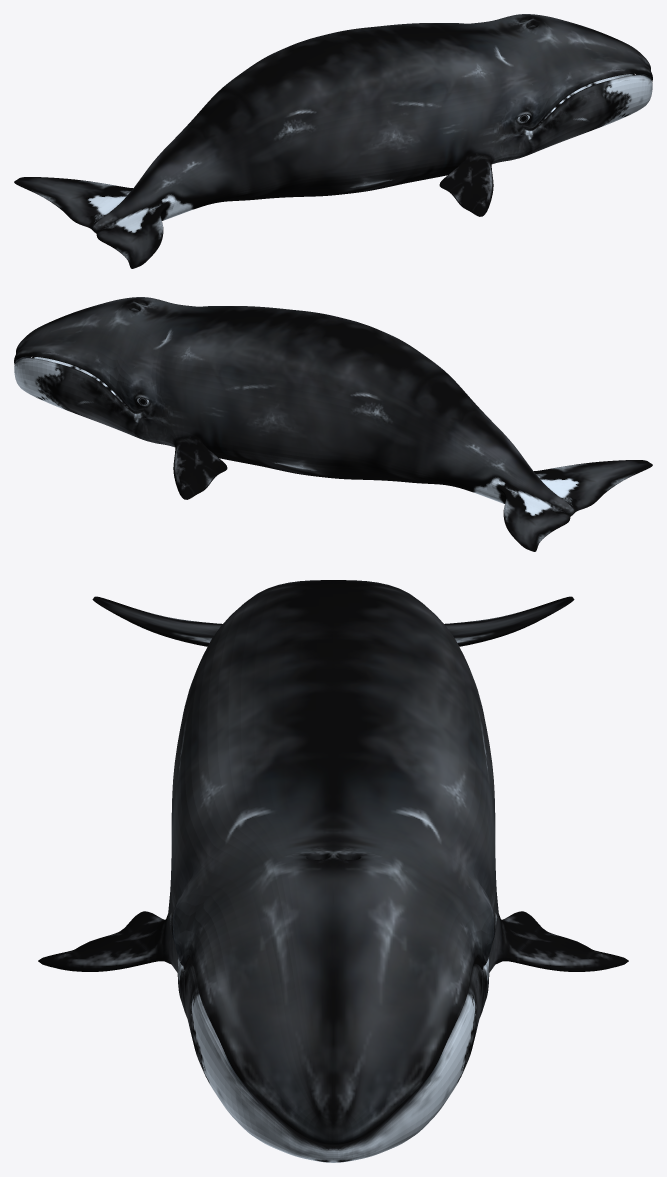
The model's file is 2.BallenaGroenlandia.glb.
The picture shows the model from 3 angles, top to bottom: view 1: azimuth 30°, elevation 25°; view 2: azimuth 150°, elevation 25°; view 3: azimuth 270°, elevation 25°; orthographic projection. The views are drawn at different scales.
Visible parts, largest first — view 1: Cube; view 2: Cube; view 3: Cube.
Boxes of the visible parts, <box> form: Cube: <box>14,14,652,268</box>; Cube: <box>14,297,652,551</box>; Cube: <box>38,580,628,1162</box>.
Bounding box in the file's own units: 8.23 × 1.97 × 3.66.
2 materials, 2 textured.
